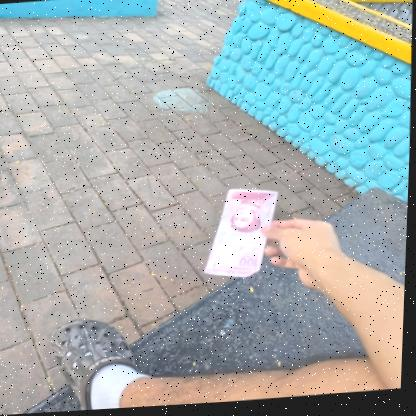one_hundred-front-vef: (202, 188, 281, 283)
